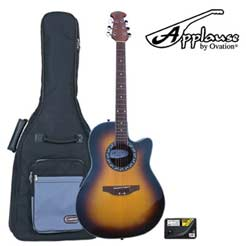guitar: (77, 12, 166, 239)
